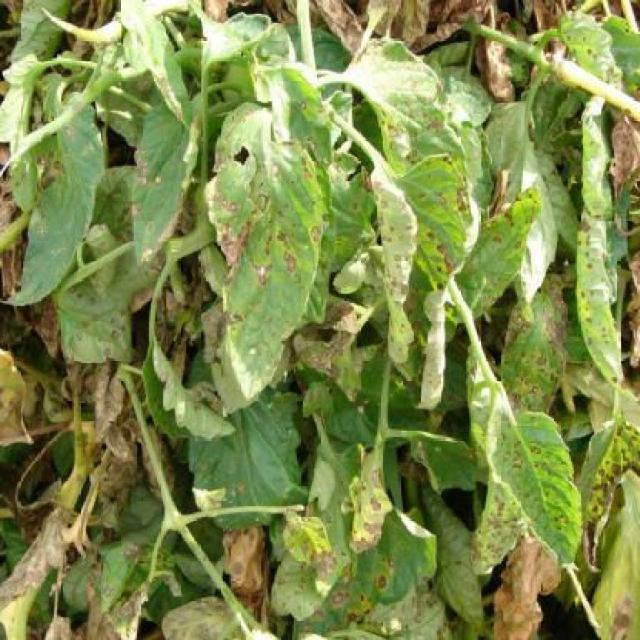Septoria leaf spot: (215, 96, 320, 387), (343, 23, 492, 219), (368, 147, 466, 370), (483, 398, 595, 578), (119, 90, 206, 276), (446, 185, 543, 342), (349, 452, 437, 614)
